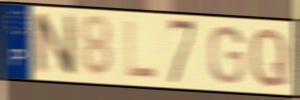7: (168, 17, 199, 86)
8: (78, 13, 118, 81)
G: (207, 24, 246, 87)
L: (125, 18, 158, 80)
N: (31, 11, 78, 78)
Q: (249, 25, 290, 90)
